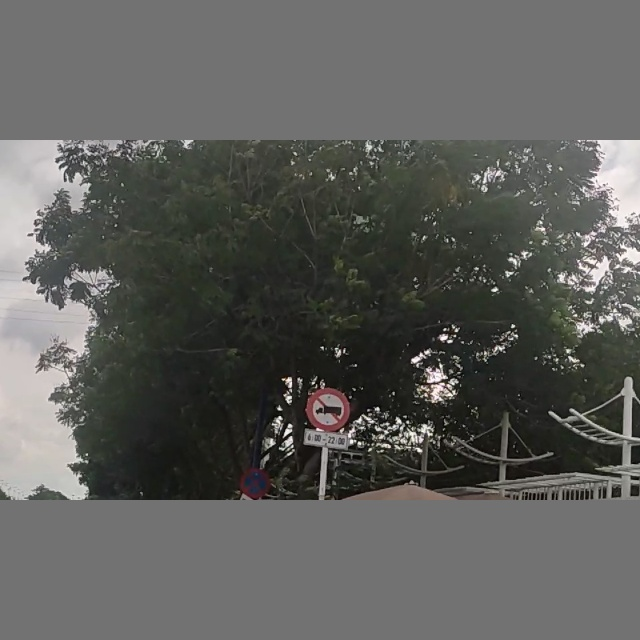B.8a: (305, 388, 349, 447)
P.130: (239, 468, 269, 495)
